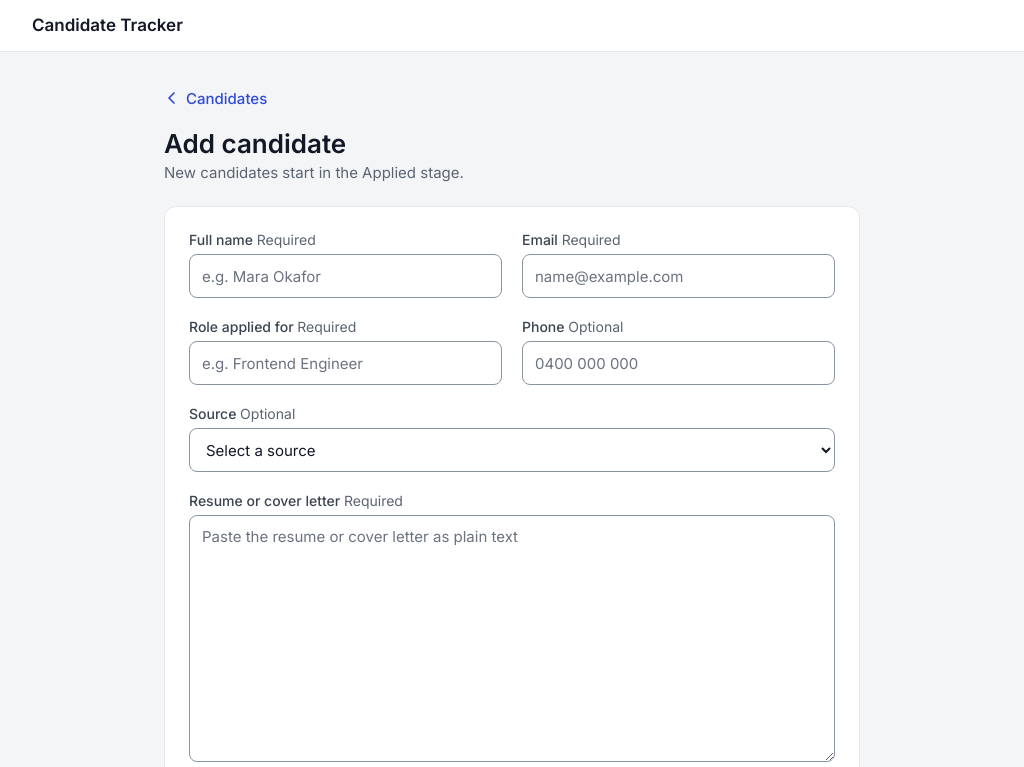
add candidate form › shows a general message when the server cannot be reached, and allows another try
The image size is (1024, 767).
Type "Mara Okafor" into the field labelled "Full name".
click(346, 276); type("Mara Okafor")  # box [189, 254, 502, 298]
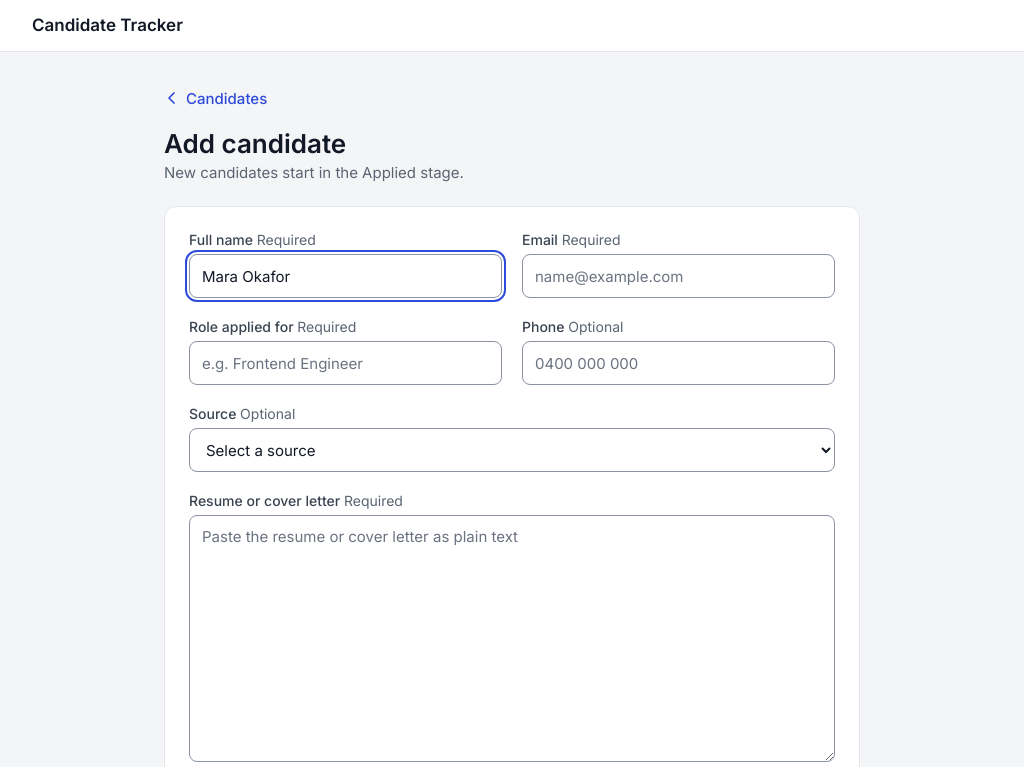
Type "mara@example.com" into the field labelled "Email".
click(678, 276); type("mara@example.com")  # box [522, 254, 835, 298]
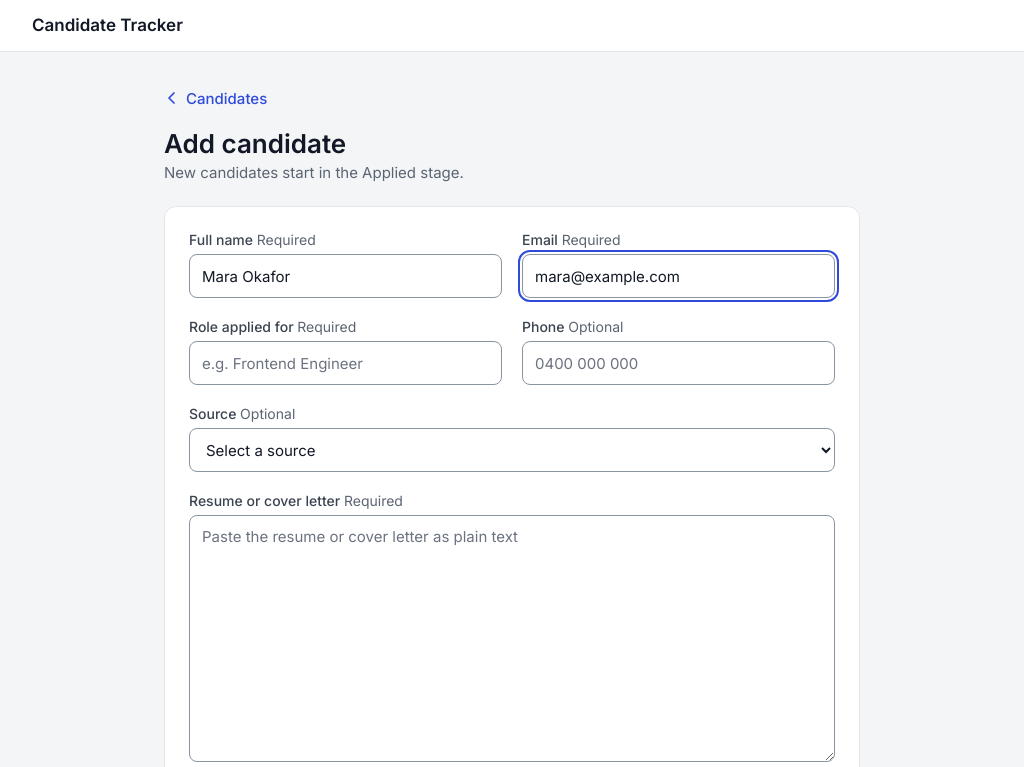
Type "Frontend Engineer" into the field labelled "Role applied for".
click(346, 363); type("Frontend Engineer")  # box [189, 341, 502, 385]
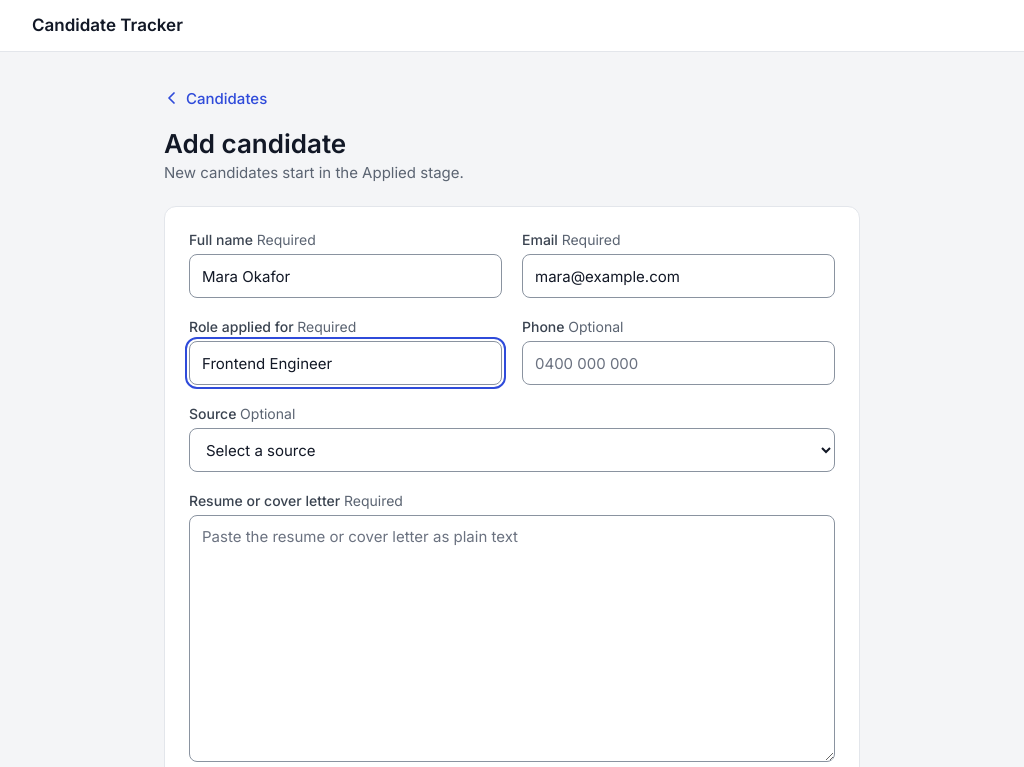
Type "Senior frontend engineer." into the text box labelled "Resume or cover letter".
click(512, 638); type("Senior frontend engineer.")  # box [189, 515, 835, 762]
(page scrolled)
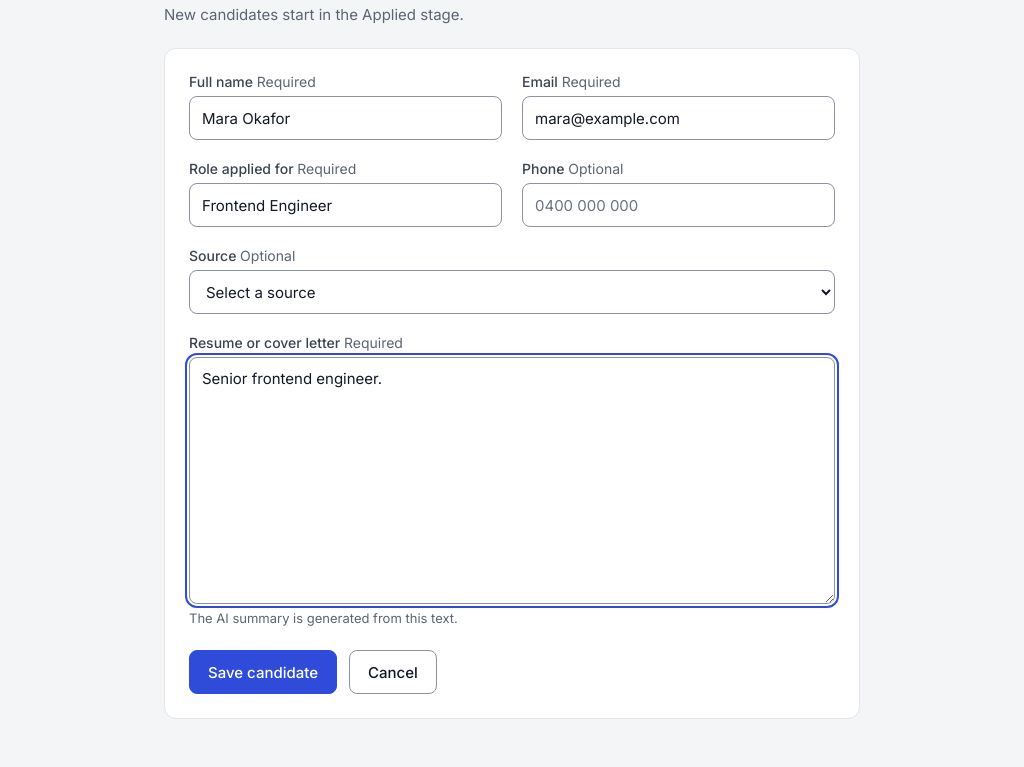
Click the button "Save candidate".
click(263, 672)  # box [189, 650, 337, 694]
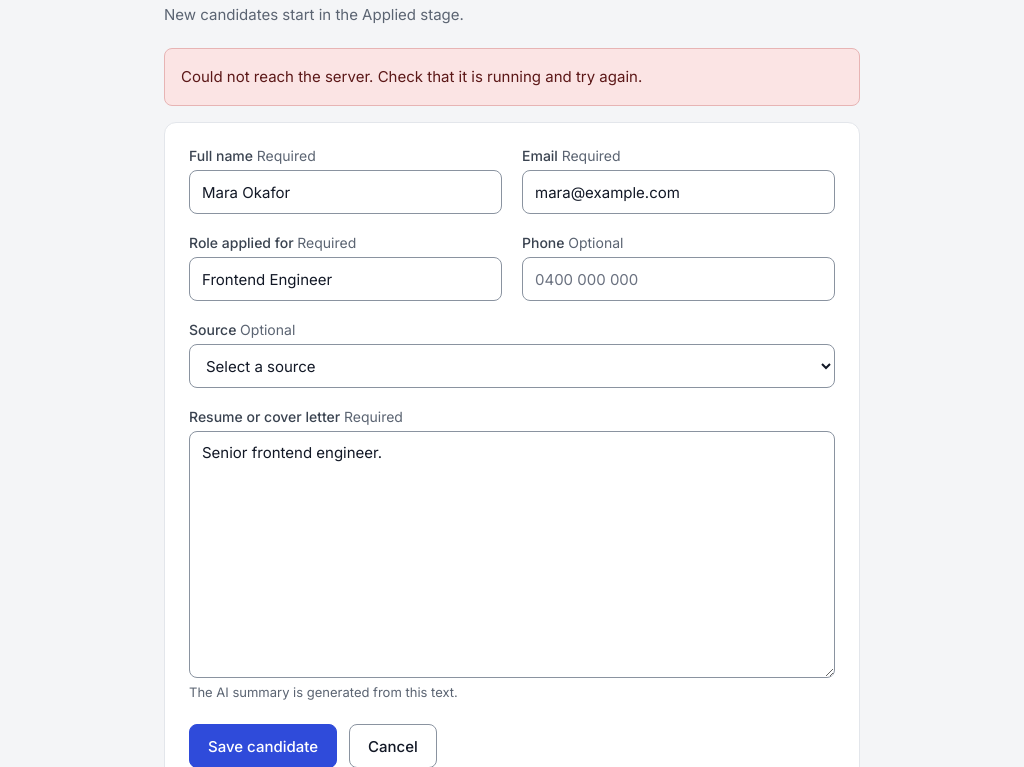
Expected: the button "Save candidate" is enabled, [189, 724, 337, 766]
Expected: the message reads "Could not reach the server. Check that it is running and try again.", [181, 67, 642, 86]
